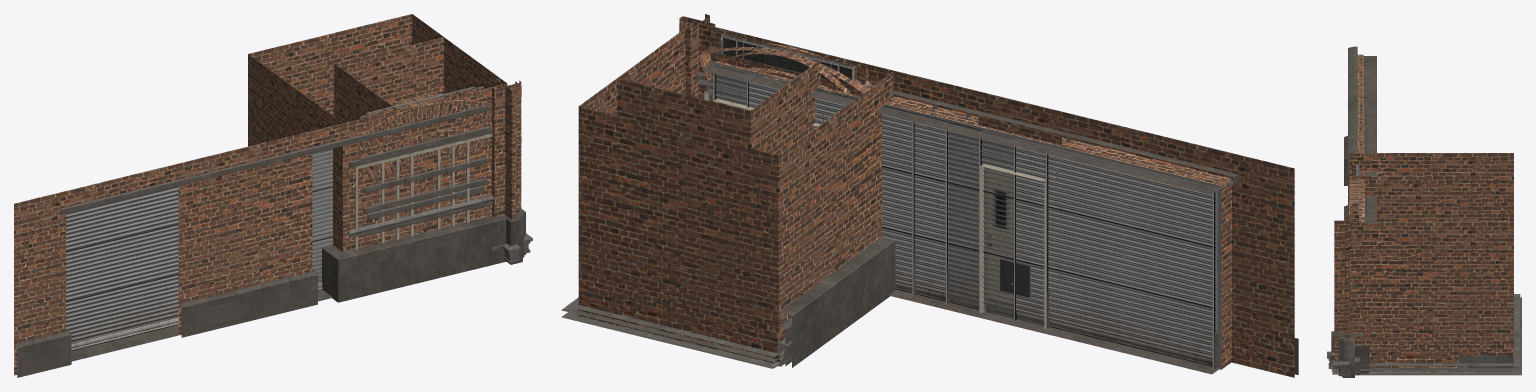
Rendered from factory_kit.glb.
3 views of the same model, side by side, from view 1: azimuth 30°, elevation 25°; view 2: azimuth 150°, elevation 25°; view 3: azimuth 270°, elevation 25° (orthographic). The views are drawn at different scales.
Parts seen in each view (by area): view 1: wall_door_garage_double_01, door_garage_double_01, base_standard_corner_large_01, wall_standard_corner_large_02, wall_standard_corner_large_01, wall_door_garage_door_01, wall_standard_corner_small_01, wall_standard_corner_small_02, wall_door_garage_centered_01, dado_garage_double_01, door_garage_centered_01, wall_pier_corner_02 (+18 smaller); view 2: door_garage_double_01, wall_standard_corner_large_02, wall_door_garage_double_01, wall_standard_corner_large_01, door_garage_door_02, door_garage_door_01, base_standard_corner_large_01, wall_standard_corner_small_02, wall_standard_corner_small_01, wall_door_garage_door_01, wall_door_garage_centered_01, wall_door_garage_door_02 (+10 smaller); view 3: wall_standard_corner_small_02, wall_standard_corner_large_02, wall_standard_corner_large_01, wall_standard_corner_small_01, door_garage_double_01, wall_pier_corner_02, cornice02_standard_corner_large_02, door_garage_door_01, cornice03_standard_corner_large_02, wall_pier_corner_01, crown_standard_corner_large_02, wall_window_tall_large_05 (+9 smaller).
Boxes of the visible parts, left/top/right/bottom form: wall_door_garage_double_01: left=14, top=83, right=507, bottom=375; door_garage_double_01: left=60, top=112, right=459, bottom=361; base_standard_corner_large_01: left=321, top=215, right=508, bottom=302; wall_standard_corner_large_02: left=248, top=14, right=506, bottom=116; wall_standard_corner_large_01: left=248, top=54, right=342, bottom=252; wall_door_garage_door_01: left=178, top=153, right=312, bottom=333; wall_standard_corner_small_01: left=334, top=64, right=455, bottom=238; wall_standard_corner_small_02: left=334, top=37, right=444, bottom=105; wall_door_garage_centered_01: left=178, top=172, right=236, bottom=334; dado_garage_double_01: left=14, top=277, right=290, bottom=377; door_garage_centered_01: left=253, top=119, right=434, bottom=299; wall_pier_corner_02: left=492, top=86, right=515, bottom=219; door_garage_double_01: left=747, top=70, right=1238, bottom=374; wall_standard_corner_large_02: left=578, top=22, right=778, bottom=363; wall_door_garage_double_01: left=854, top=93, right=1294, bottom=377; wall_standard_corner_large_01: left=778, top=71, right=893, bottom=342; door_garage_door_02: left=705, top=53, right=1071, bottom=328; door_garage_door_01: left=705, top=62, right=1057, bottom=329; base_standard_corner_large_01: left=779, top=237, right=896, bottom=367; wall_standard_corner_small_02: left=617, top=78, right=750, bottom=148; wall_standard_corner_small_01: left=750, top=54, right=827, bottom=155; wall_door_garage_door_01: left=894, top=71, right=1092, bottom=144; wall_door_garage_centered_01: left=894, top=71, right=1092, bottom=143; wall_door_garage_door_02: left=711, top=53, right=1094, bottom=144; wall_standard_corner_small_02: left=1349, top=222, right=1458, bottom=371; wall_standard_corner_large_02: left=1458, top=222, right=1513, bottom=355; wall_standard_corner_large_01: left=1349, top=153, right=1513, bottom=222; wall_standard_corner_small_01: left=1349, top=176, right=1458, bottom=222; door_garage_double_01: left=1348, top=46, right=1376, bottom=152; wall_pier_corner_02: left=1334, top=216, right=1349, bottom=369; cornice02_standard_corner_large_02: left=1360, top=294, right=1520, bottom=373; door_garage_door_01: left=1348, top=113, right=1376, bottom=222; cornice03_standard_corner_large_02: left=1360, top=297, right=1521, bottom=375; wall_pier_corner_01: left=1345, top=220, right=1361, bottom=339; crown_standard_corner_large_02: left=1458, top=355, right=1513, bottom=371; wall_window_tall_large_05: left=1348, top=173, right=1364, bottom=222.
Size of the model in its own units: 9.35 by 3.03 by 3.56.
Materials: 6 (6 with a texture image).
